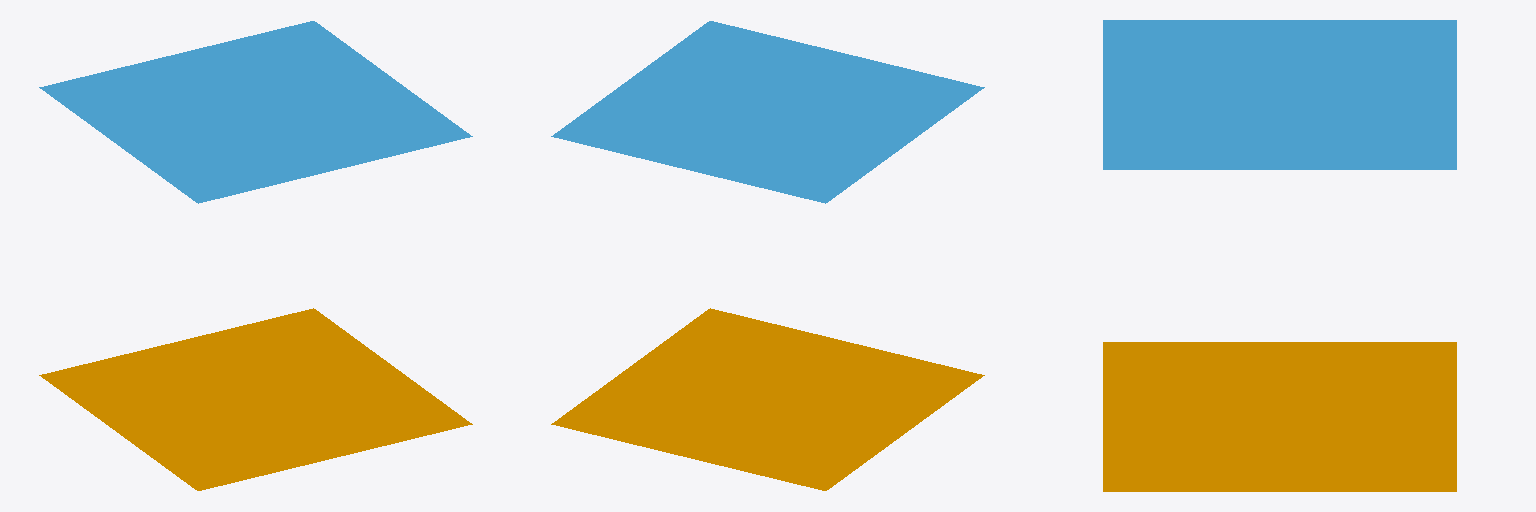
The robot description file, URDF, robot "leak_robot":
<?xml version="1.0"?>
<robot name="leak_robot">
  <link name="base">
    <visual>
      <geometry>
        <mesh filename="package://leak_test/meshes/box.stl"/>
      </geometry>
    </visual>
  </link>
  <link name="tip">
    <visual>
      <geometry>
        <mesh filename="package://leak_test/meshes/box.stl"/>
      </geometry>
    </visual>
  </link>
  <joint name="hinge" type="revolute">
    <parent link="base"/>
    <child link="tip"/>
    <origin xyz="0 0 1"/>
    <axis xyz="0 0 1"/>
    <limit lower="-1.57" upper="1.57" effort="1" velocity="1"/>
  </joint>
</robot>

--- Facts derived from the render (not from the file) ---
Views: 3 orthographic renders of the robot side by side, from view 1: azimuth 30°, elevation 25°; view 2: azimuth 150°, elevation 25°; view 3: azimuth 270°, elevation 25°.
Robot: leak_robot — 2 links, 1 joints (1 revolute); root link base; default pose: every joint at zero.
Visible links, largest first — view 1: base, tip; view 2: base, tip; view 3: base, tip.
Boxes of the visible links, x1=… form: base: x1=39, y1=308, x2=472, y2=490; tip: x1=39, y1=21, x2=472, y2=203; base: x1=551, y1=308, x2=984, y2=490; tip: x1=551, y1=21, x2=984, y2=203; base: x1=1103, y1=342, x2=1456, y2=491; tip: x1=1103, y1=20, x2=1456, y2=169.
Size in the robot's own frame: 1 by 1 by 1 metres.
Meshes: 1 distinct files referenced, 2 mesh visuals loaded (1 ASCII STL).
